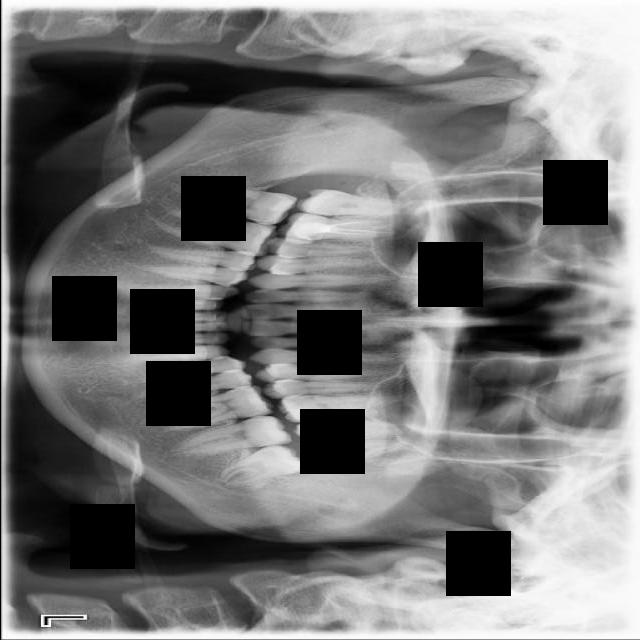52: (276, 211, 325, 245)
73: (308, 212, 400, 243), (28, 594, 44, 602)
BioHorizons Implant: (291, 421, 409, 447)
BioLife Implant: (306, 436, 410, 471)
Biomet 3i Implant: (210, 438, 309, 491)
Blue Sky Bio Implant: (172, 412, 292, 457)
Caries: (294, 189, 422, 218)
Implant: (178, 177, 300, 230)
